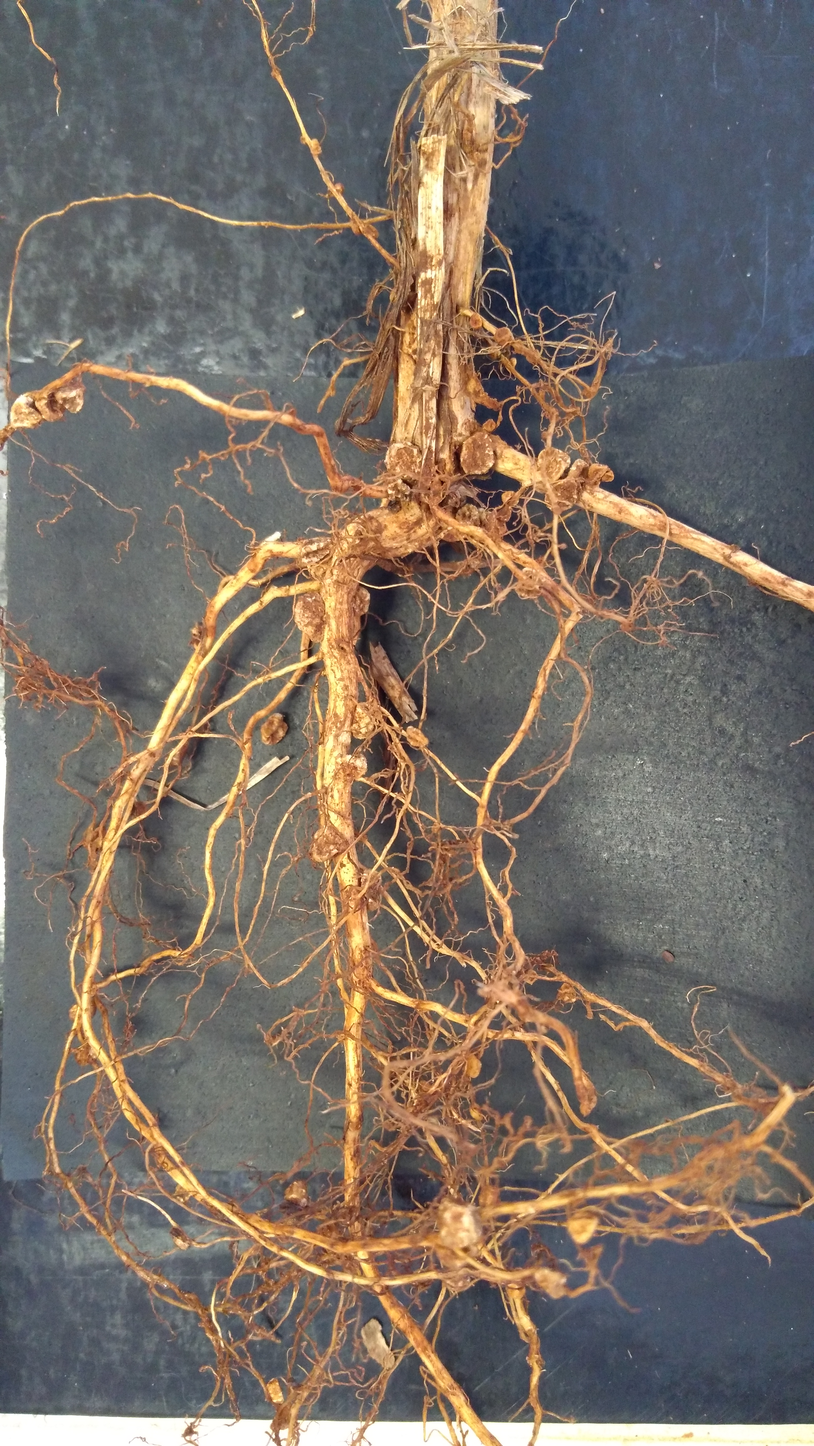nodule: (435, 1196, 491, 1251), (289, 589, 327, 650), (458, 429, 500, 481), (560, 1204, 604, 1251), (378, 441, 424, 482), (306, 826, 352, 863), (6, 390, 46, 431), (433, 1246, 471, 1286), (257, 710, 292, 751), (32, 385, 67, 424), (535, 446, 572, 482), (351, 695, 378, 743), (544, 479, 582, 512), (535, 1267, 569, 1301), (53, 381, 86, 416), (515, 566, 546, 602), (360, 866, 385, 910), (400, 720, 433, 751), (297, 536, 331, 566), (343, 749, 373, 782), (350, 584, 376, 618), (453, 502, 483, 531), (285, 1178, 310, 1210), (68, 998, 99, 1023), (383, 477, 412, 503), (339, 521, 368, 546), (463, 1049, 485, 1081), (489, 326, 518, 349), (586, 462, 615, 484), (555, 981, 579, 1007), (478, 1183, 501, 1210), (266, 1376, 285, 1405), (492, 503, 517, 525), (469, 1102, 488, 1124), (506, 1283, 527, 1302), (466, 313, 488, 331), (499, 489, 519, 507), (480, 416, 498, 434), (526, 348, 543, 366), (522, 968, 539, 986), (330, 180, 344, 199), (364, 223, 379, 237), (350, 220, 364, 235), (310, 138, 321, 156), (418, 1080, 432, 1094)
